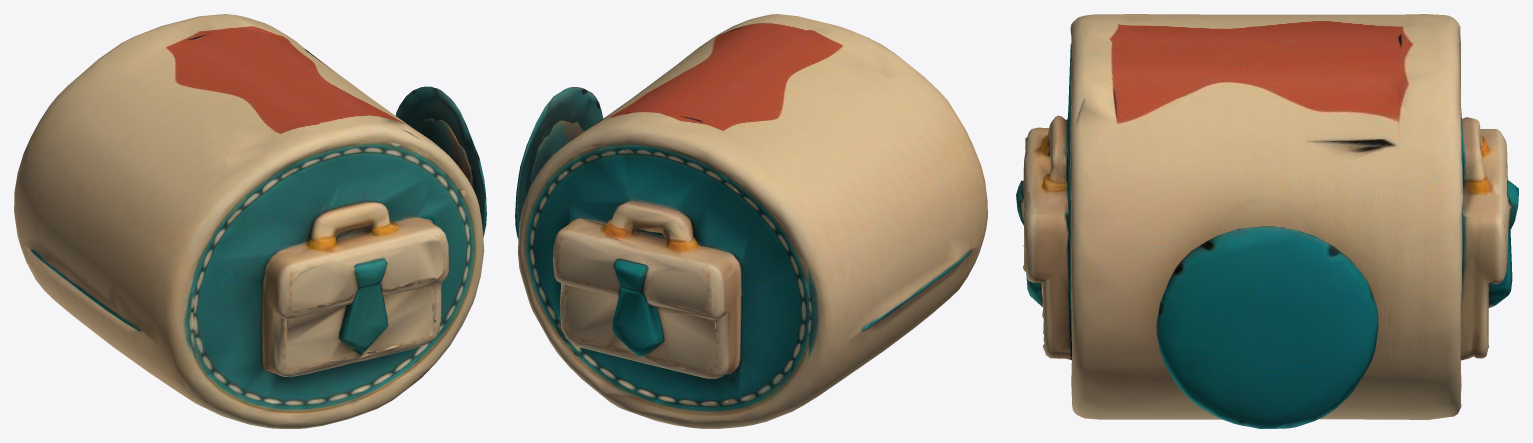
File: space-job.glb
3 views of the same model, side by side, from view 1: azimuth 30°, elevation 25°; view 2: azimuth 150°, elevation 25°; view 3: azimuth 270°, elevation 25° (orthographic). The views are drawn at different scales.
Parts seen in each view (by area): view 1: Mesh_0; view 2: Mesh_0; view 3: Mesh_0.
Part boxes in pixels (x1,y1,x2,y2): Mesh_0: (14, 14, 486, 428); Mesh_0: (515, 14, 987, 428); Mesh_0: (1016, 14, 1518, 428).
Bounding box in the file's own units: 2 × 1.5 × 1.93.
1 material, 1 textured.
